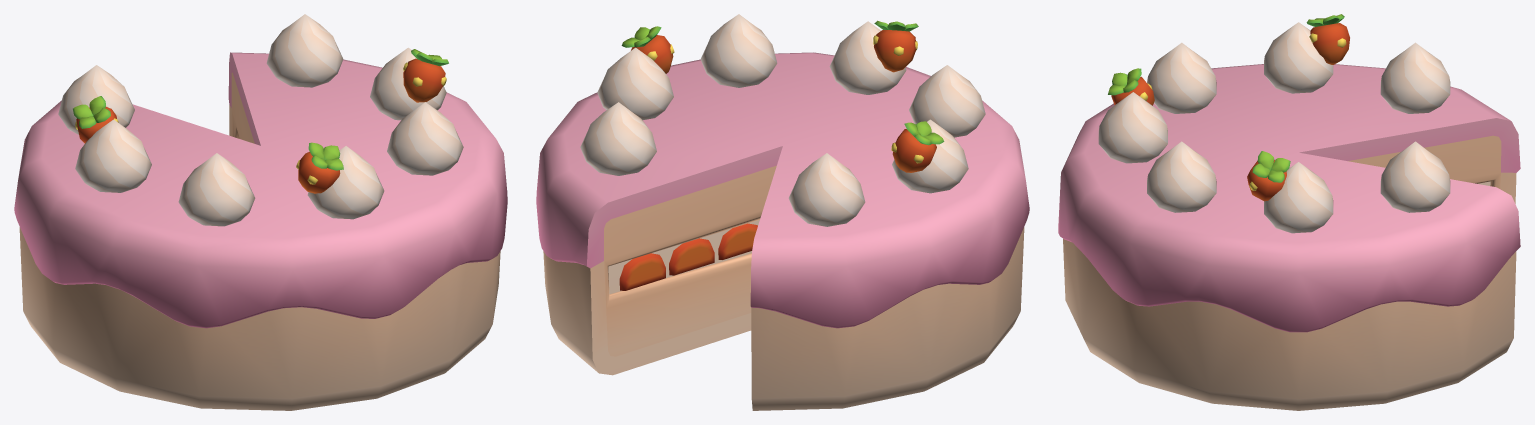
Rendered from cake_strawberry_cut.glb.
3 renders of one model, left to right at view 1: azimuth 30°, elevation 25°; view 2: azimuth 150°, elevation 25°; view 3: azimuth 270°, elevation 25°, orthographic. The views are drawn at different scales.
Parts seen in each view (by area): view 1: cake_strawberry_cut; view 2: cake_strawberry_cut; view 3: cake_strawberry_cut.
Boxes of the visible parts, <box> form: cake_strawberry_cut: <box>14,14,507,410</box>; cake_strawberry_cut: <box>536,14,1029,410</box>; cake_strawberry_cut: <box>1058,14,1520,410</box>.
Size of the model in its own units: 1.22 by 0.6687 by 1.17.
1 material, 1 textured.
